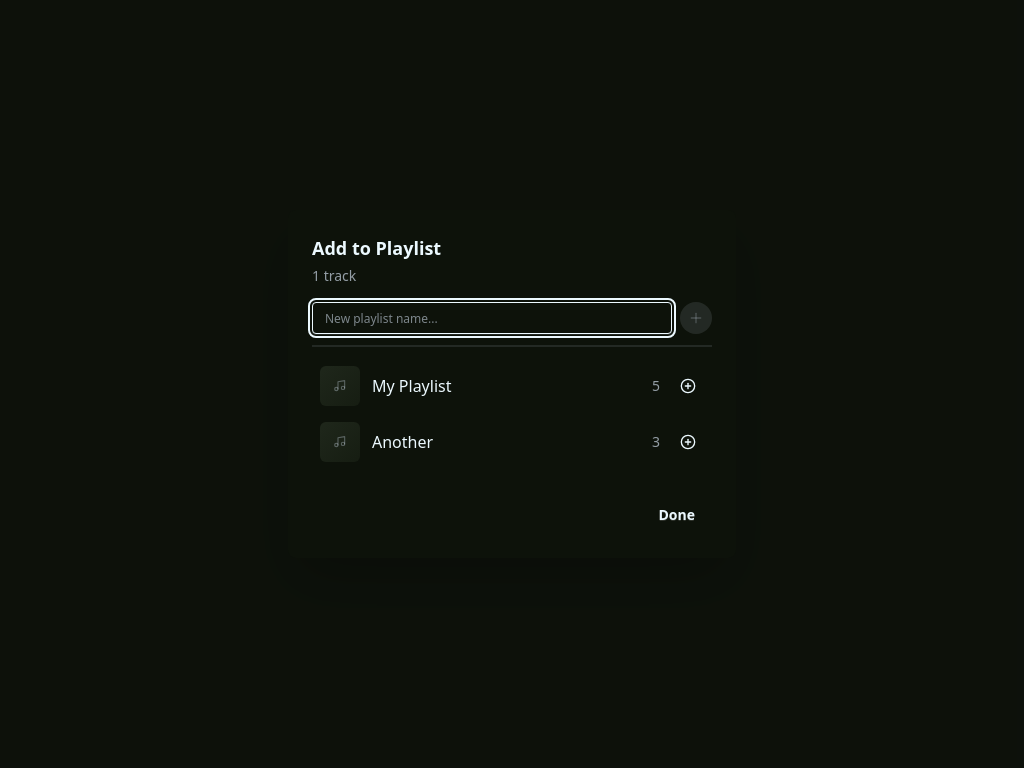
Scenario: AddToPlaylistModal.svelte › after adding, button transitions from CirclePlus to Check
The image size is (1024, 768).
Expected: the text "My Playlist" is shown, [372,375,452,397]
Click the button named "Add to My Playlist": point(688, 386) [672,370,704,402]
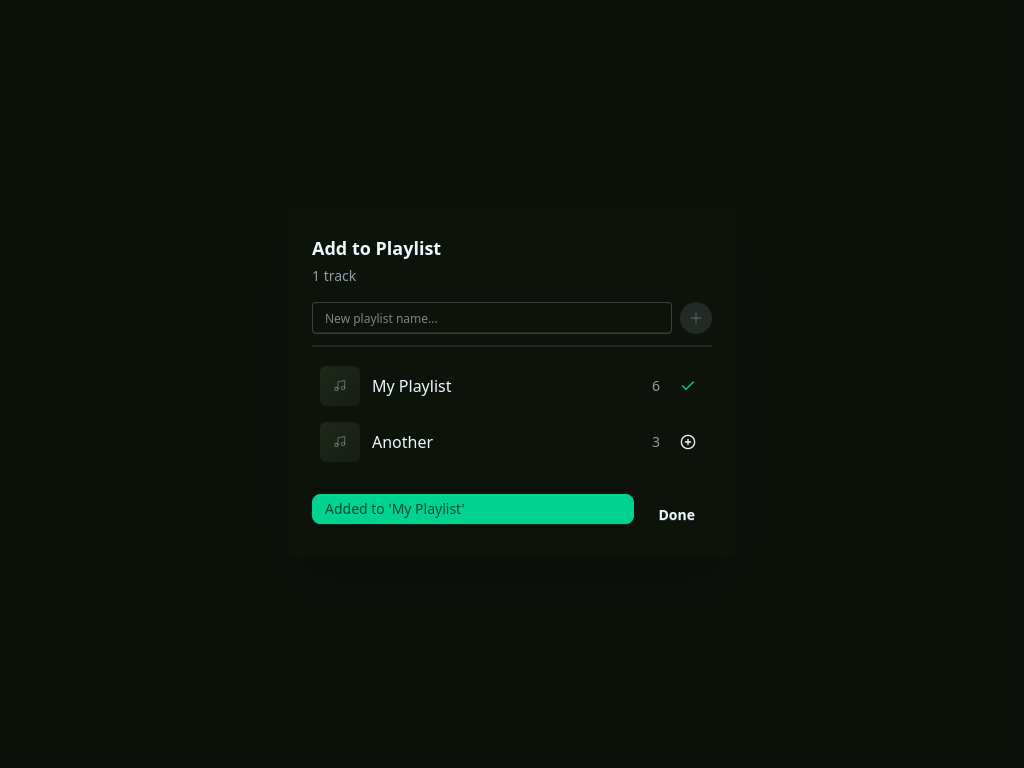
Now the button named "Already in playlist" is shown, box [672,370,704,402]
